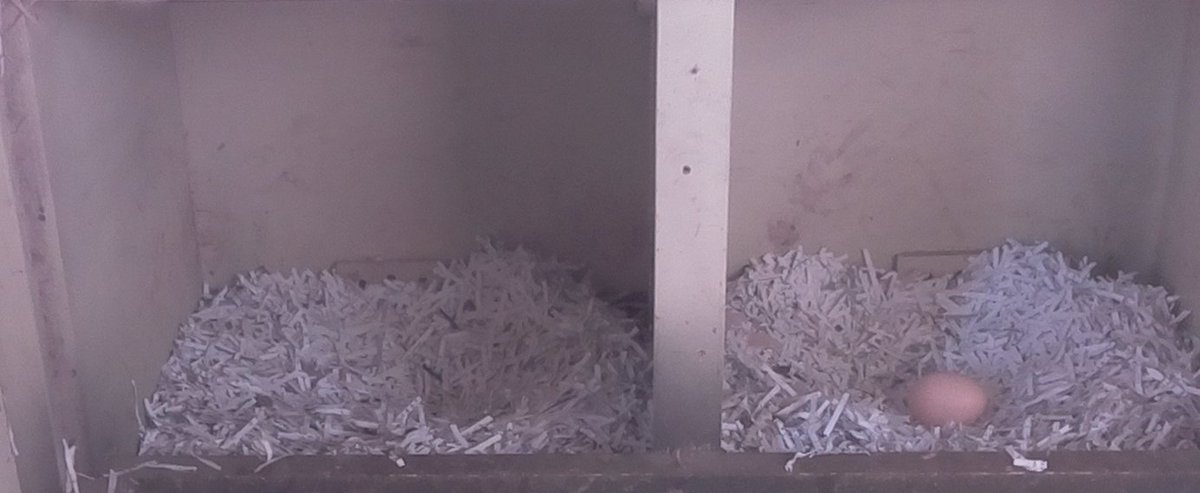egg: (903, 372, 991, 433)
